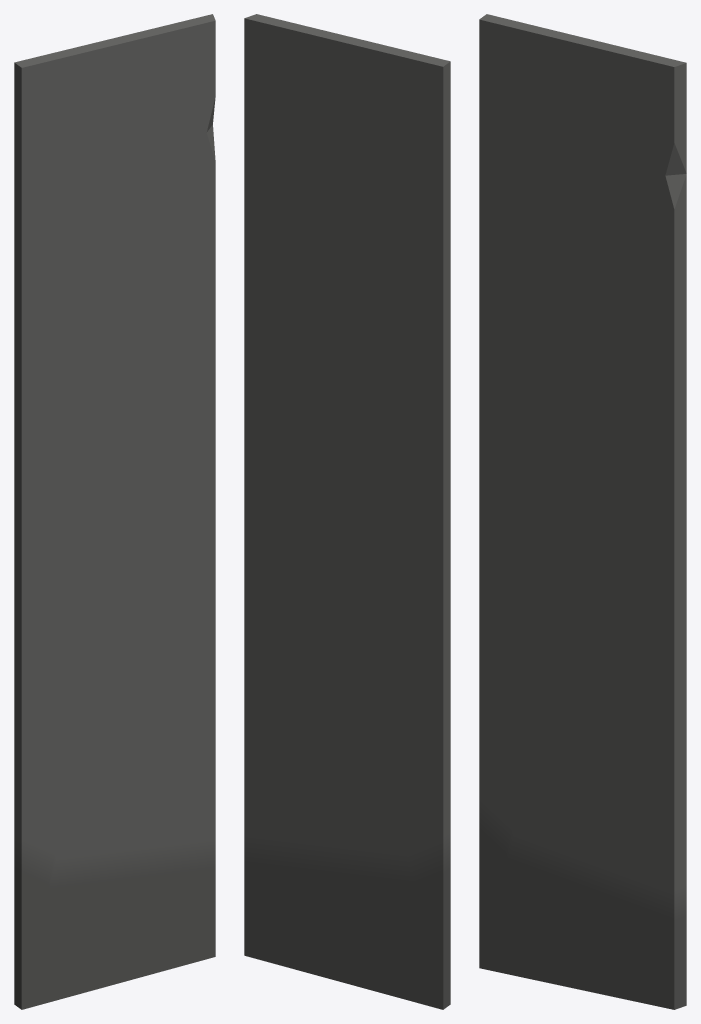
File: SM_Prop_Cabinet_Door_01.glb
3 renders of one model, left to right at view 1: azimuth 30°, elevation 25°; view 2: azimuth 150°, elevation 25°; view 3: azimuth 330°, elevation 25°, orthographic.
Visible parts, largest first — view 1: SM_Prop_Cabinet_Door_01; view 2: SM_Prop_Cabinet_Door_01; view 3: SM_Prop_Cabinet_Door_01.
Part boxes in pixels (x1=…): SM_Prop_Cabinet_Door_01: x1=14, y1=14, x2=215, y2=1009; SM_Prop_Cabinet_Door_01: x1=244, y1=14, x2=450, y2=1009; SM_Prop_Cabinet_Door_01: x1=479, y1=14, x2=686, y2=1009.
Bounding box in the file's own units: 0.4937 × 2.24 × 0.0323.
1 material, 1 textured.
